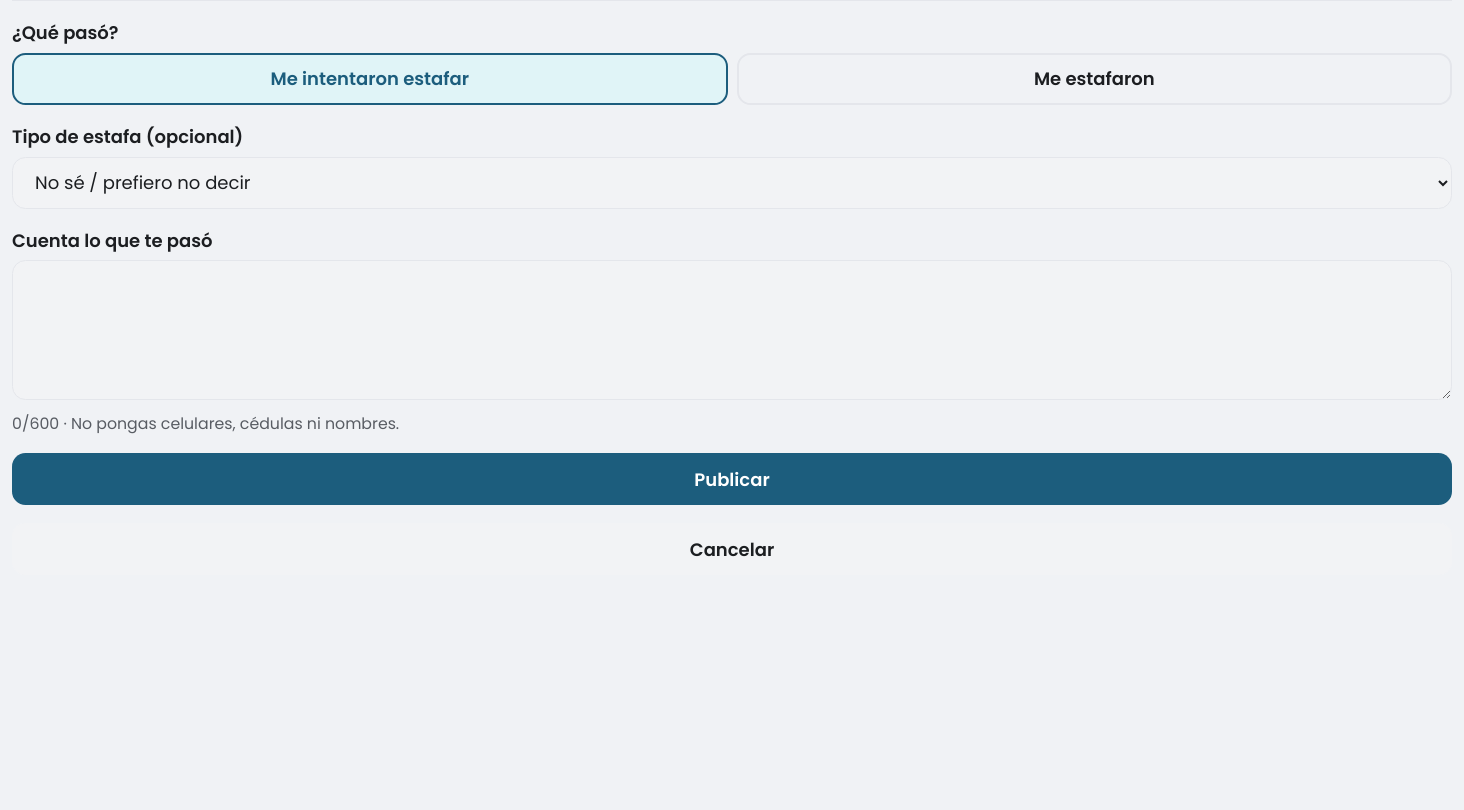
Scenario: Publicar en Comunidad › muestra el rechazo 422 del moderador
The image size is (1464, 810).
Type "Esto es un texto suficientemente largo" into the text box labelled "Cuenta lo que te pasó". click: (732, 330)
box: [12, 260, 1452, 400]
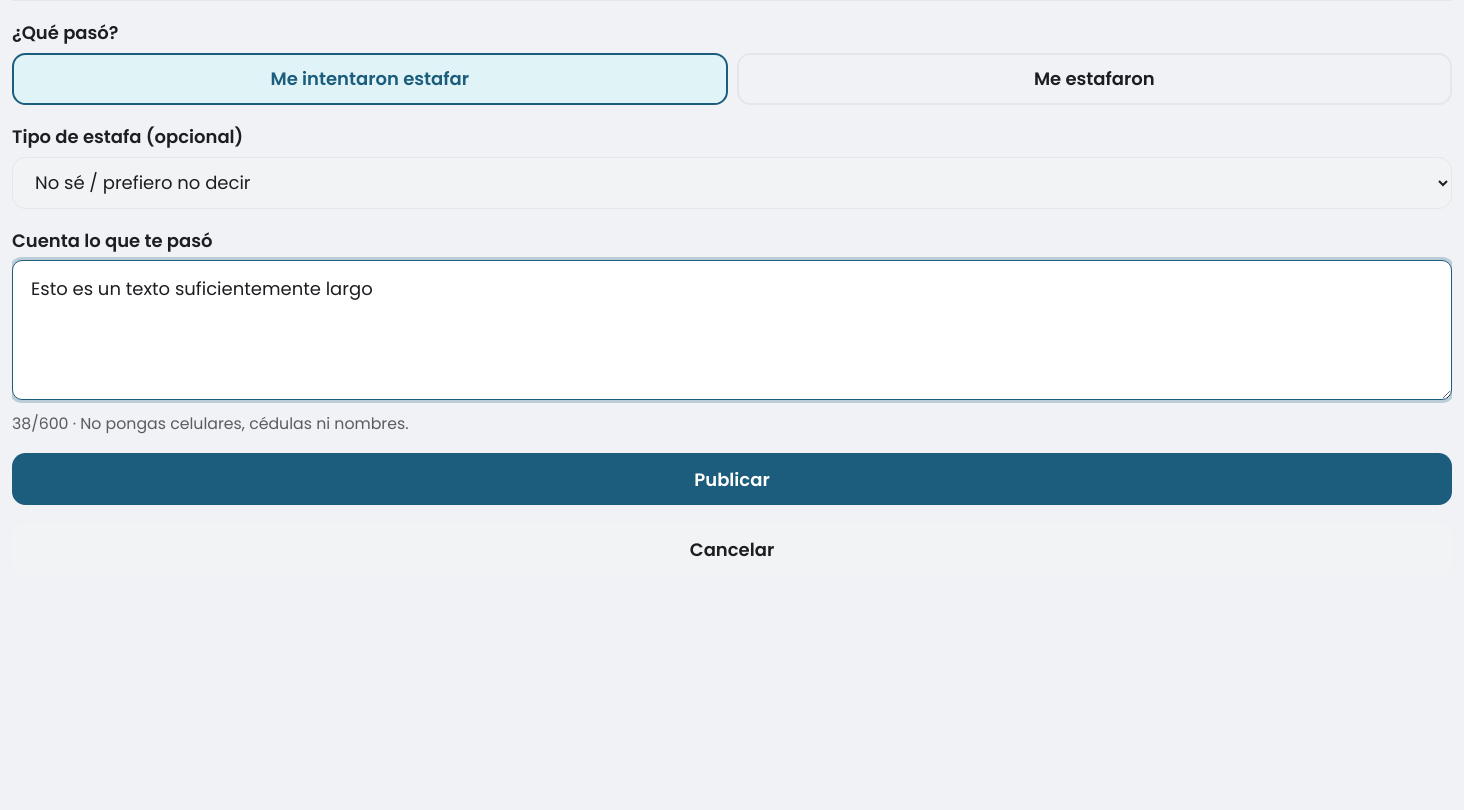
Click the button "Publicar". click: (732, 479)
box: [12, 453, 1452, 505]
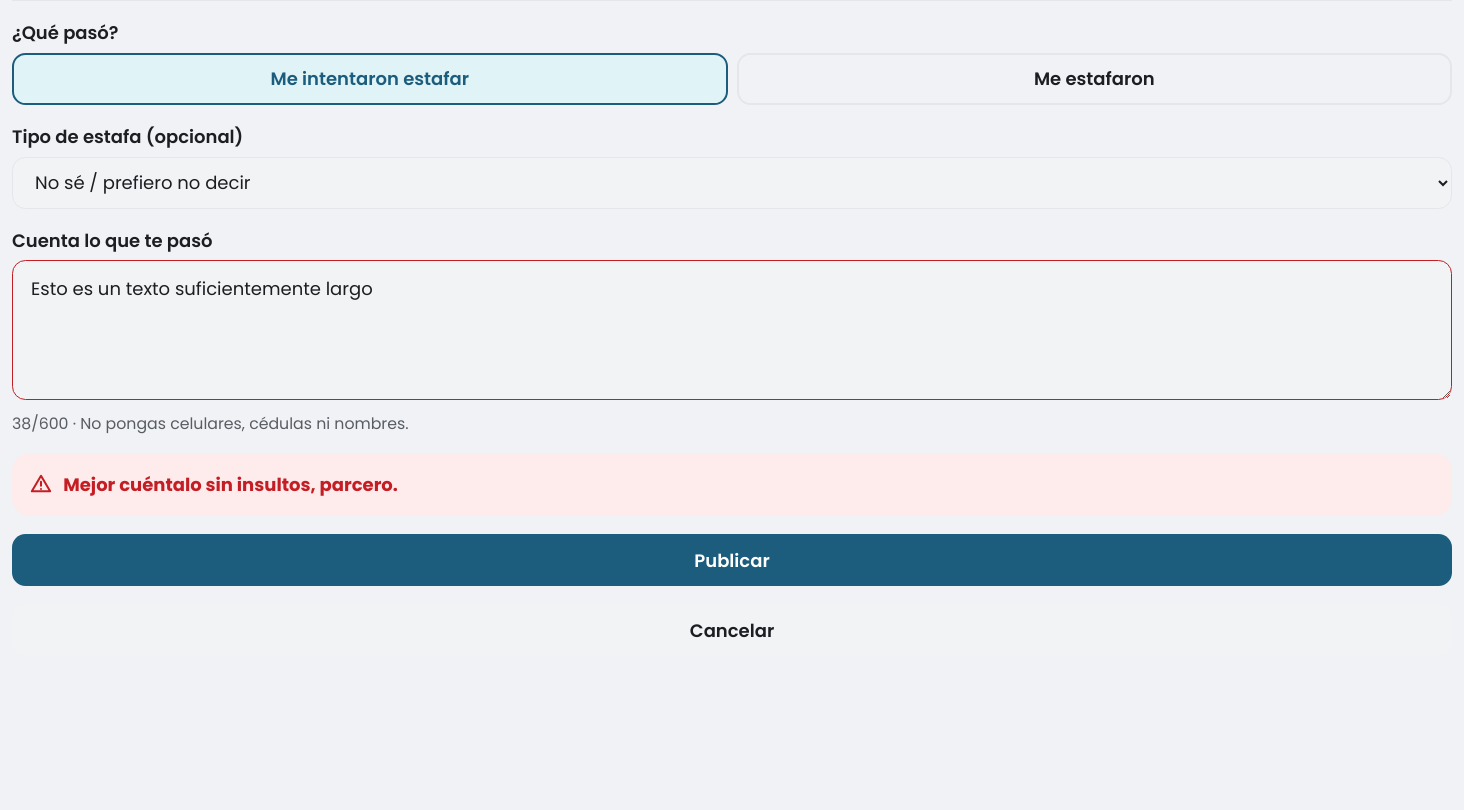
Expected: the message reads "Mejor cuéntalo sin insultos, parcero.", [63, 472, 398, 497]
